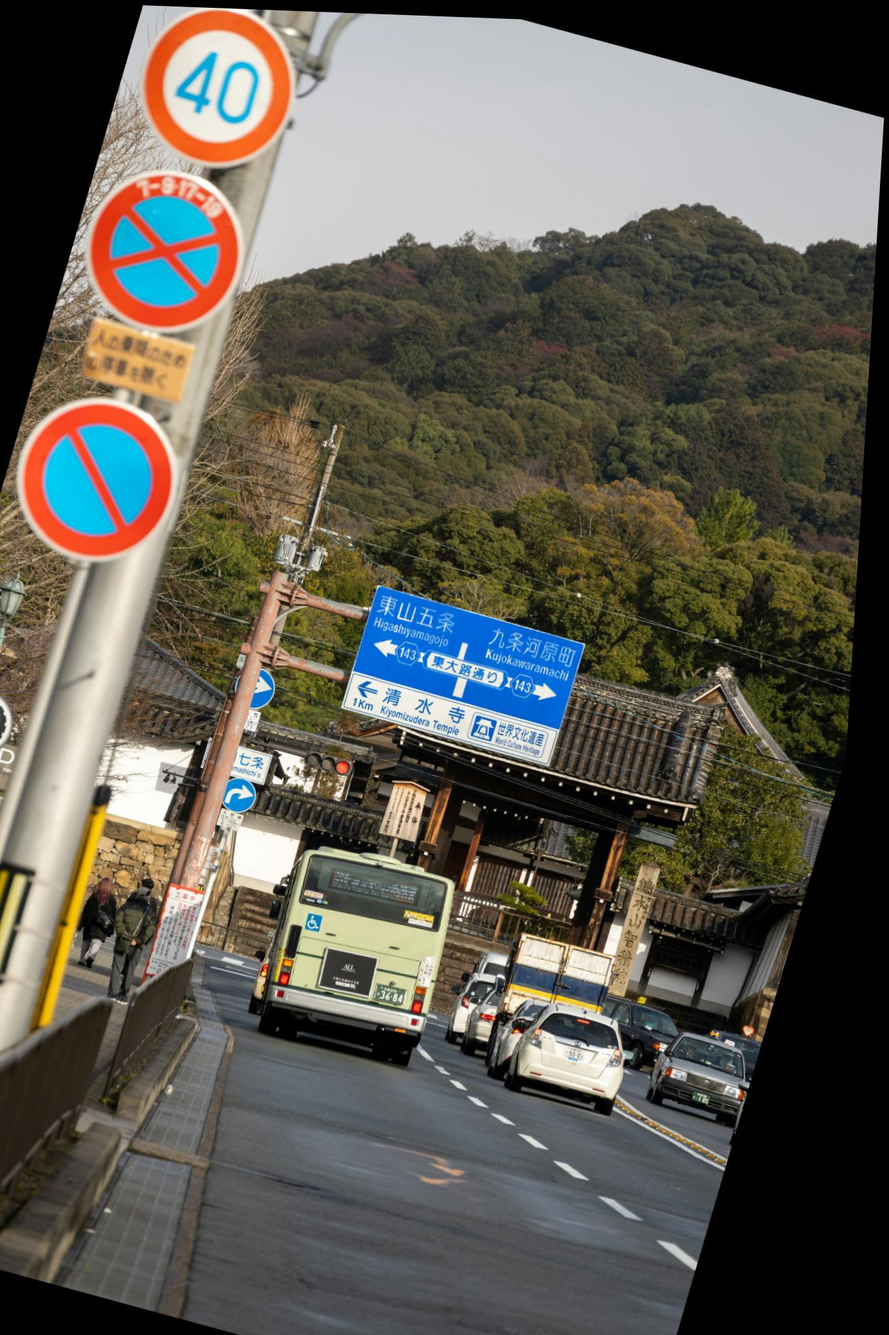stop_sign: (65, 150, 274, 355)
